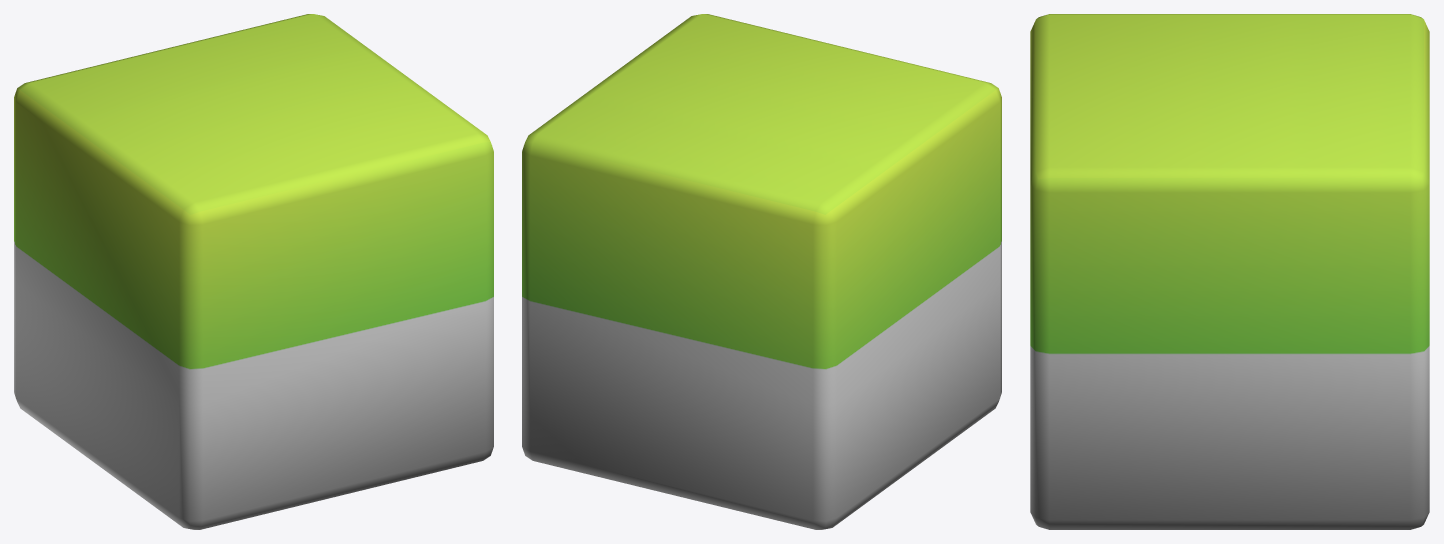
Rendered from Wall (1).fbx.
3 renders of one model, left to right at view 1: azimuth 30°, elevation 25°; view 2: azimuth 150°, elevation 25°; view 3: azimuth 270°, elevation 25°, orthographic. The views are drawn at different scales.
Parts seen in each view (by area): view 1: Cube; view 2: Cube; view 3: Cube.
Part boxes in pixels (x1,y1,x2,y2): Cube: [14, 14, 493, 529]; Cube: [522, 14, 1001, 529]; Cube: [1030, 14, 1429, 529].
Bounding box in the file's own units: 203 × 203 × 203.
